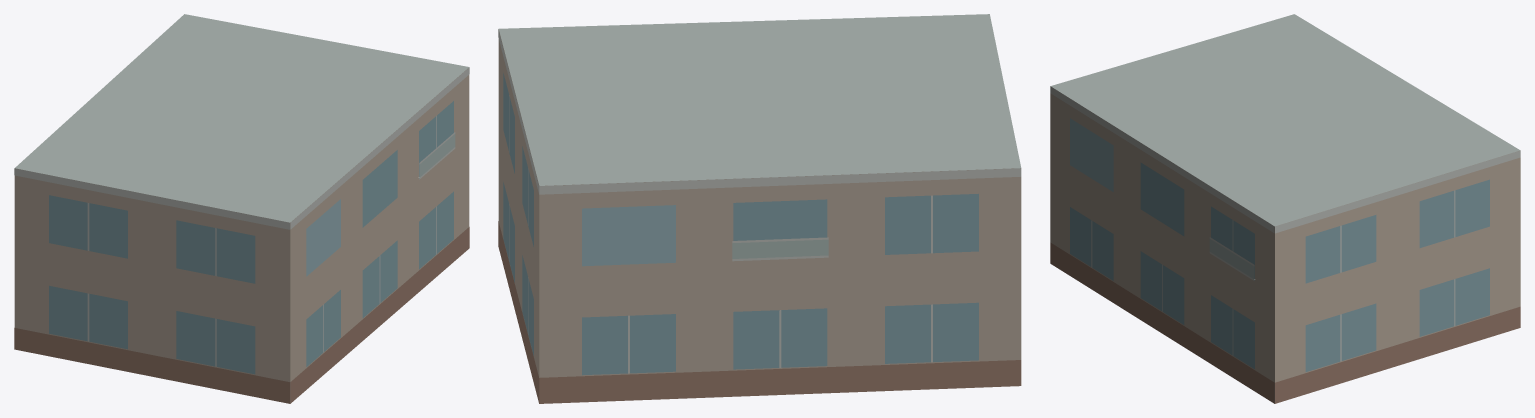
Rendered from survey-upis-32499618.glb.
The picture shows the model from 3 angles, left to right: view 1: azimuth 30°, elevation 25°; view 2: azimuth 150°, elevation 25°; view 3: azimuth 270°, elevation 25°; orthographic projection. The views are drawn at different scales.
Visible parts, largest first — view 1: survey-upis-32499618.tmp; view 2: survey-upis-32499618.tmp; view 3: survey-upis-32499618.tmp.
Part boxes in pixels (left/top/right/bottom): survey-upis-32499618.tmp: left=14, top=14, right=469, bottom=403; survey-upis-32499618.tmp: left=498, top=14, right=1021, bottom=403; survey-upis-32499618.tmp: left=1050, top=14, right=1520, bottom=403.
Bounding box in the file's own units: 15.68 × 6.1 × 14.67.
